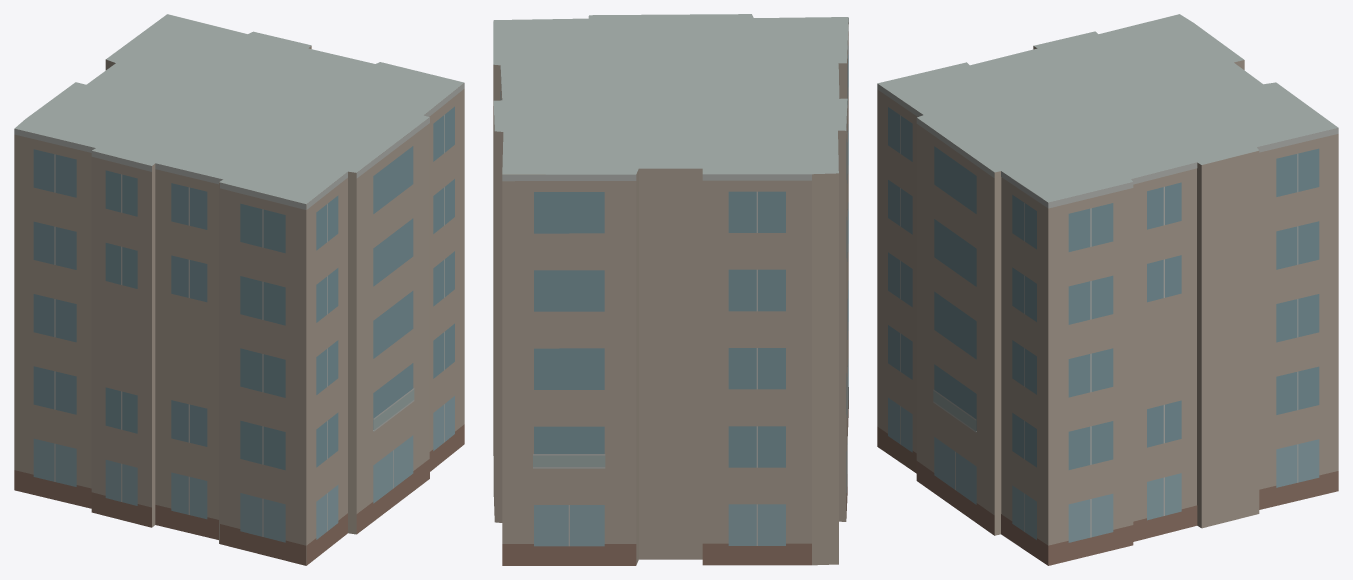
Rendered from survey-upis-32839533.glb.
The picture shows the model from 3 angles, left to right: view 1: azimuth 30°, elevation 25°; view 2: azimuth 150°, elevation 25°; view 3: azimuth 270°, elevation 25°; orthographic projection. The views are drawn at different scales.
Parts seen in each view (by area): view 1: survey-upis-32839533.tmp; view 2: survey-upis-32839533.tmp; view 3: survey-upis-32839533.tmp.
Part boxes in pixels (x1=…): survey-upis-32839533.tmp: x1=14, y1=14, x2=464, y2=565; survey-upis-32839533.tmp: x1=493, y1=14, x2=848, y2=565; survey-upis-32839533.tmp: x1=877, y1=14, x2=1338, y2=565.
Bounding box in the file's own units: 16.6 × 14.9 × 17.16.
